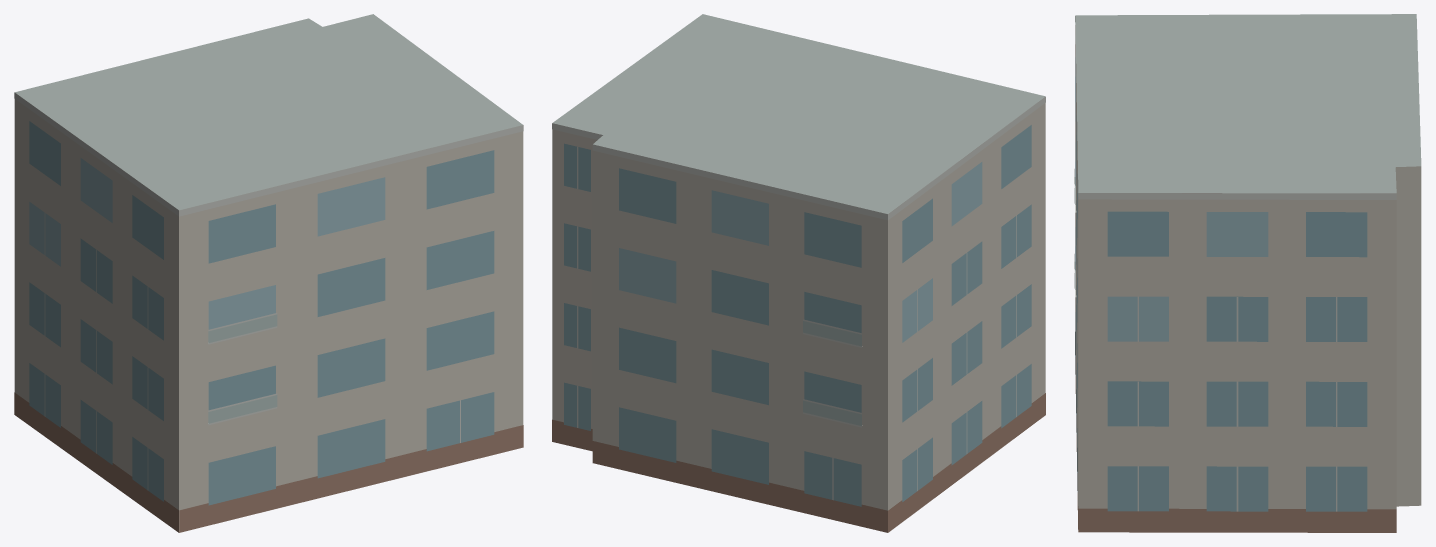
The model's file is survey-upis-32822503.glb.
The picture shows the model from 3 angles, left to right: view 1: azimuth 30°, elevation 25°; view 2: azimuth 150°, elevation 25°; view 3: azimuth 270°, elevation 25°; orthographic projection. The views are drawn at different scales.
Visible parts, largest first — view 1: survey-upis-32822503.tmp; view 2: survey-upis-32822503.tmp; view 3: survey-upis-32822503.tmp.
Part boxes in pixels (x1,y1,x2,y2): survey-upis-32822503.tmp: (14,14,523,532); survey-upis-32822503.tmp: (552,14,1045,532); survey-upis-32822503.tmp: (1074,14,1421,532).
Size of the model in its own units: 14.29 by 12.6 by 11.68.
